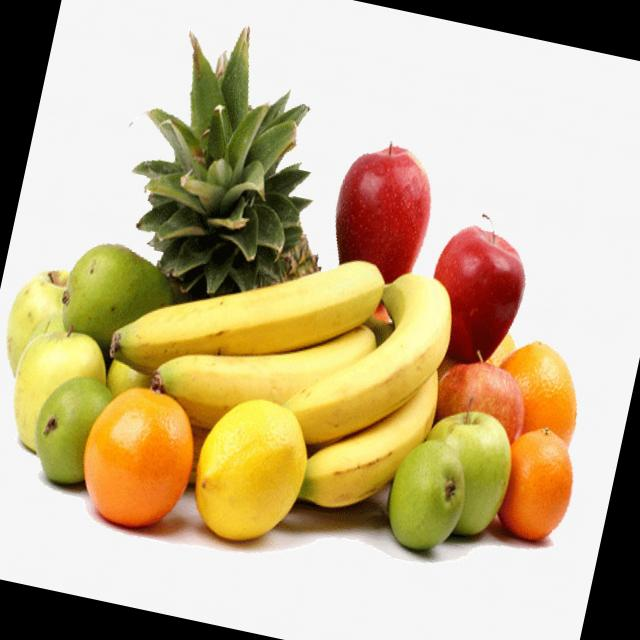apple: (409, 206, 556, 386), (312, 133, 452, 310)
banana: (110, 209, 398, 411), (269, 244, 472, 492), (137, 279, 399, 469), (286, 324, 462, 544)
orange: (61, 372, 208, 542), (475, 336, 597, 470), (484, 426, 587, 554)
